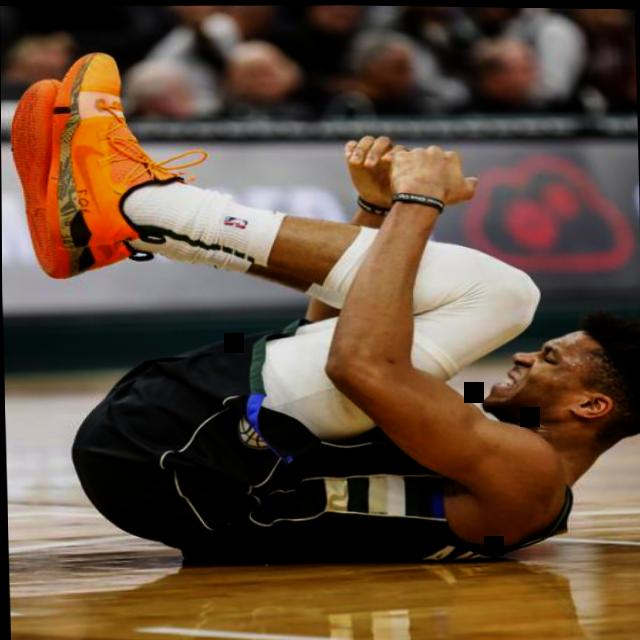Fall-Detected: (26, 23, 640, 600)
